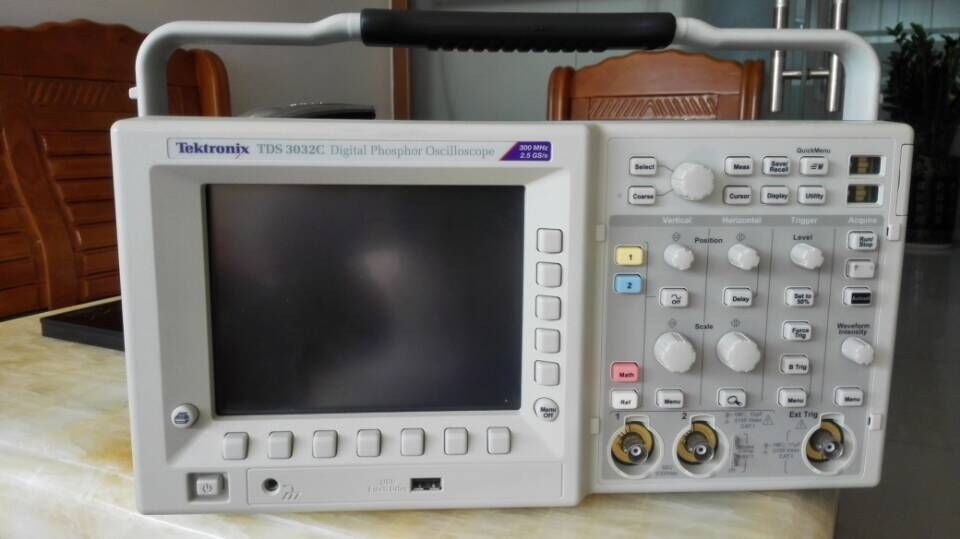Oscilloscope: (60, 11, 922, 526)
